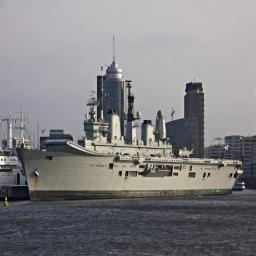Portanaves: (13, 84, 246, 205)
